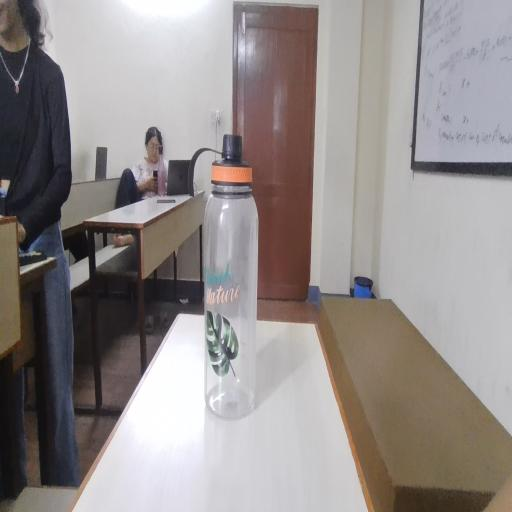Bottle: (190, 169, 275, 402)
